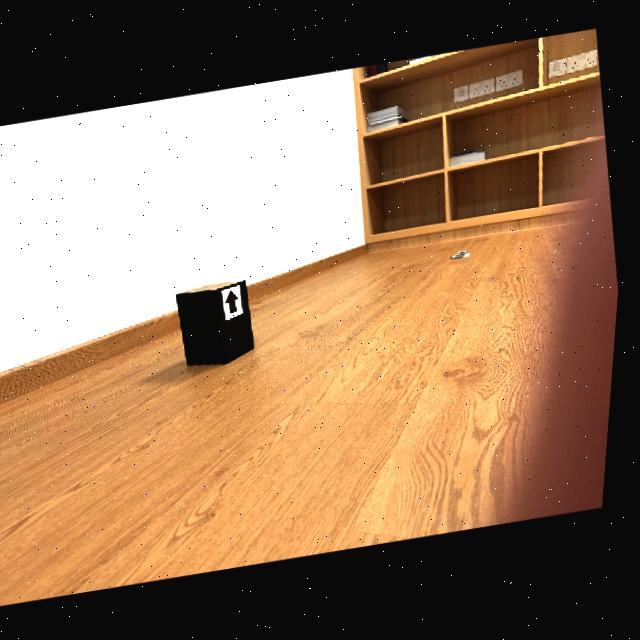UP: (230, 291, 244, 315)
